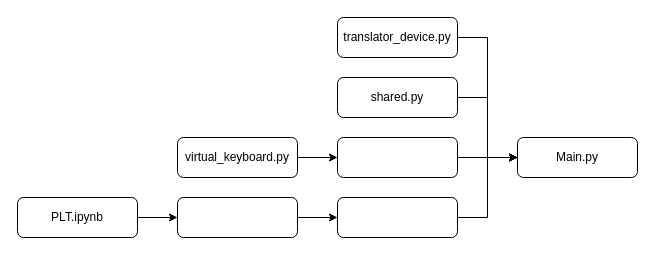
The diagram is 655 pixels wide and 255 high, and some of its shapes have lost their labels. The box of each missing label's shape, as (x1, y1, x2, y2) in pixels:
convert.py: (176, 196, 298, 238)
model.tflite: (336, 196, 458, 238)
Tabular_UI.py: (336, 136, 458, 178)
